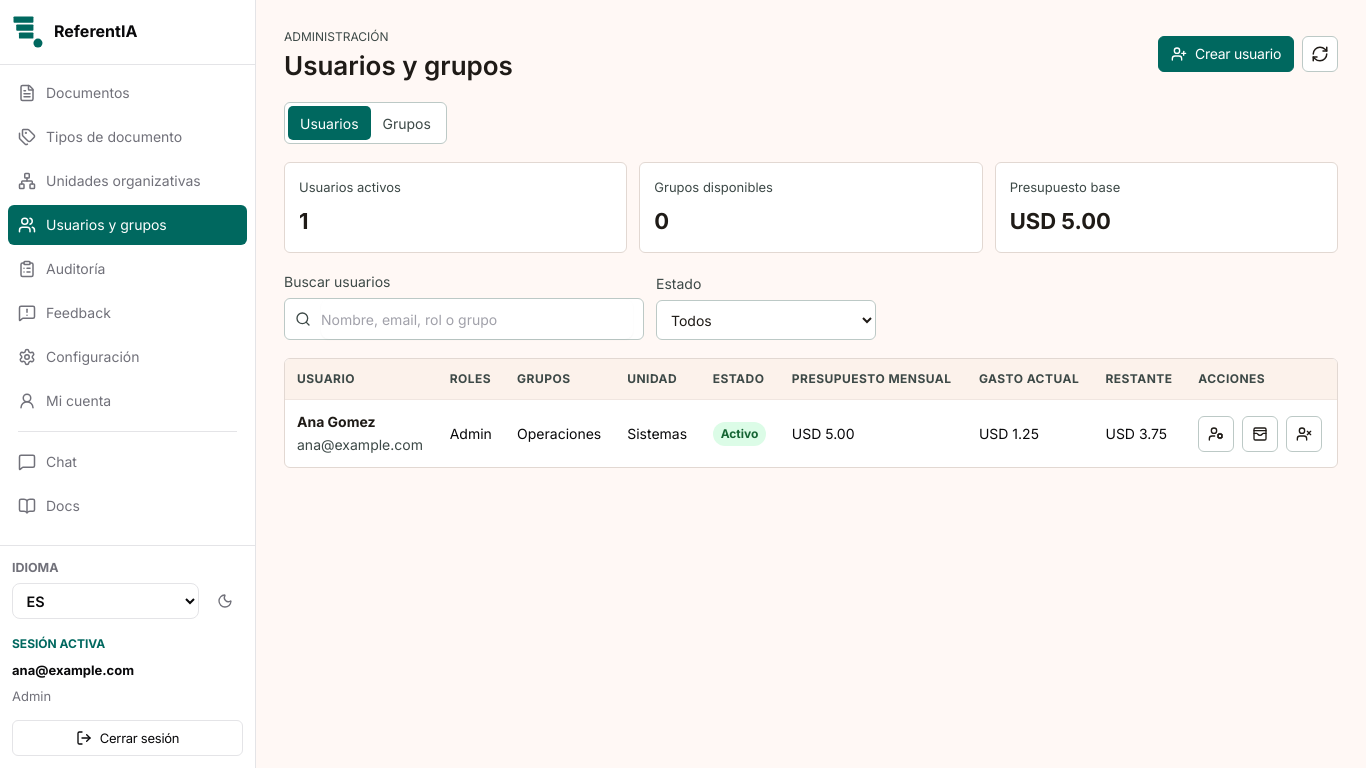
Scenario: management users and budgets › validates non-negative budget values in the edit dialog
Click the button named "Editar presupuesto de Ana Gomez" at (1260, 434), box left=1242, top=416, right=1278, bottom=452
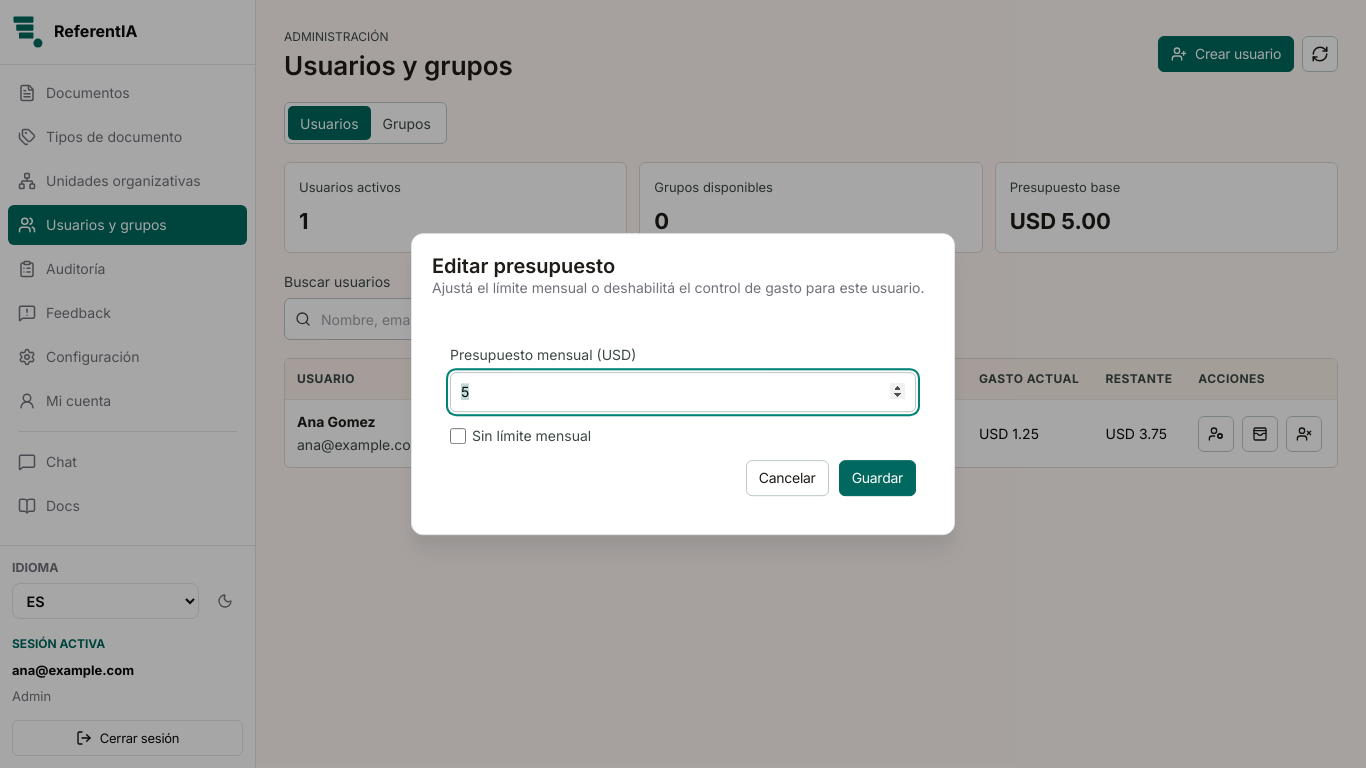
Now the text "Ajustá el límite mensual o deshabilitá el control de gasto para este usuario." is shown, box left=432, top=278, right=934, bottom=298
Replace the text in the number field labelled "Presupuesto mensual (USD)" with "-1" at (683, 392), box left=450, top=372, right=916, bottom=412
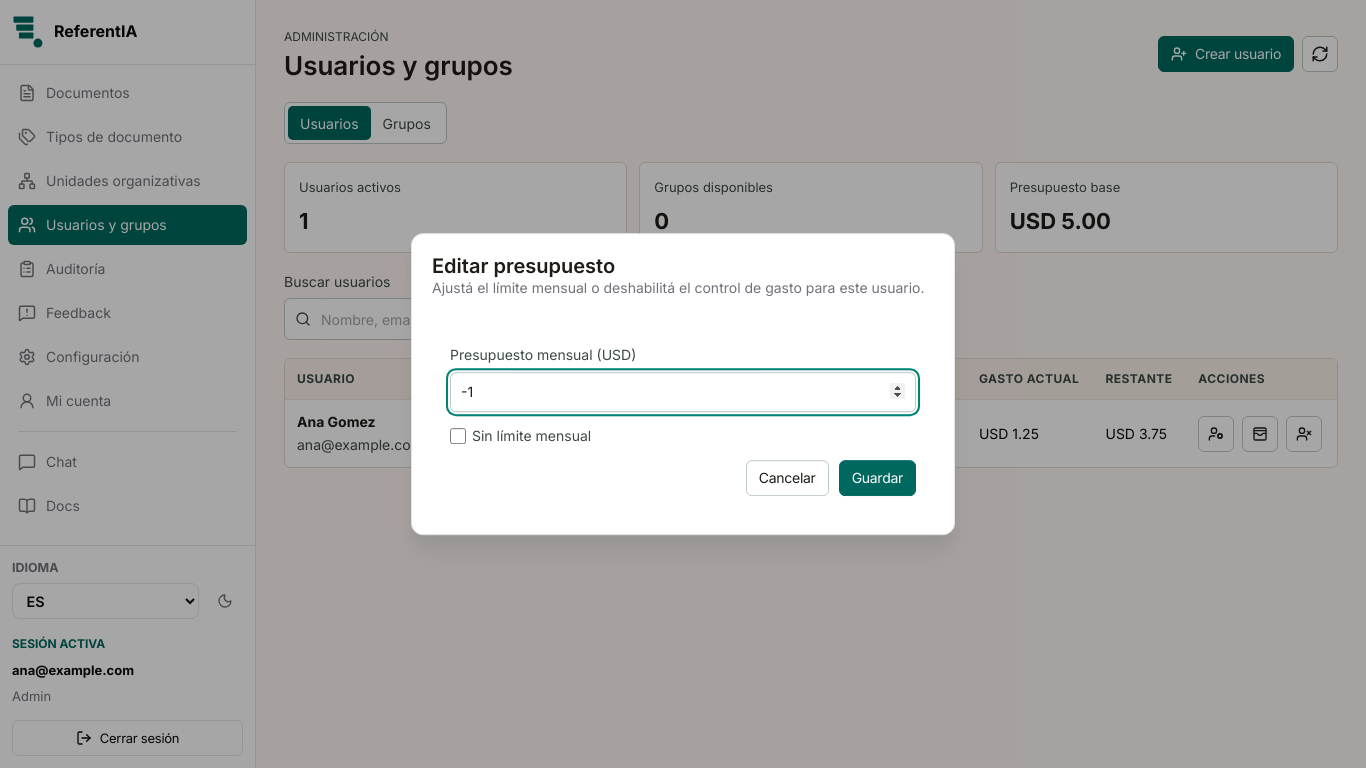
Click the button "Guardar" at (877, 478), box left=839, top=460, right=916, bottom=496
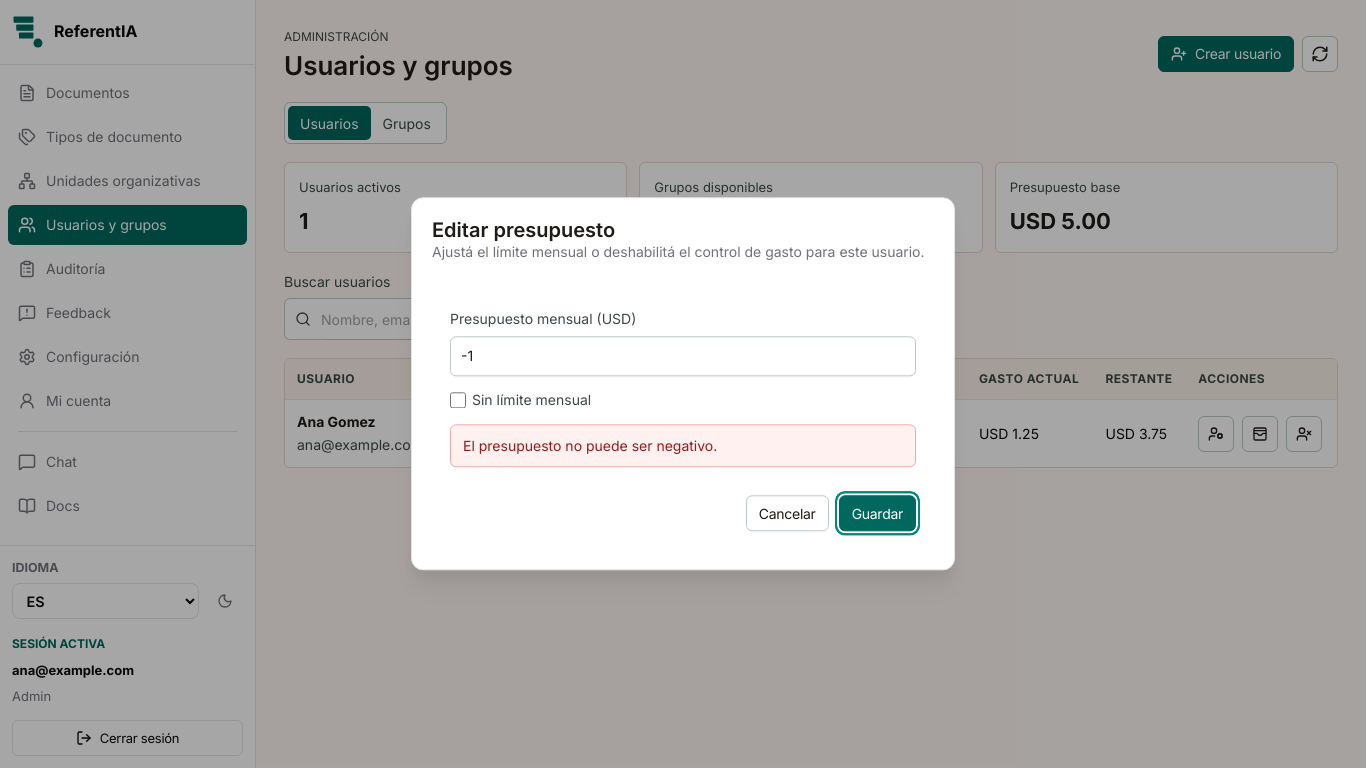
Now the text "El presupuesto no puede ser negativo." is shown, box left=450, top=424, right=916, bottom=468
